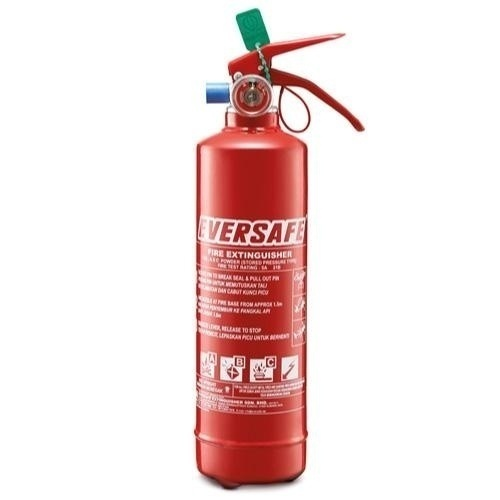fire_extinguisher: (193, 7, 365, 490)
